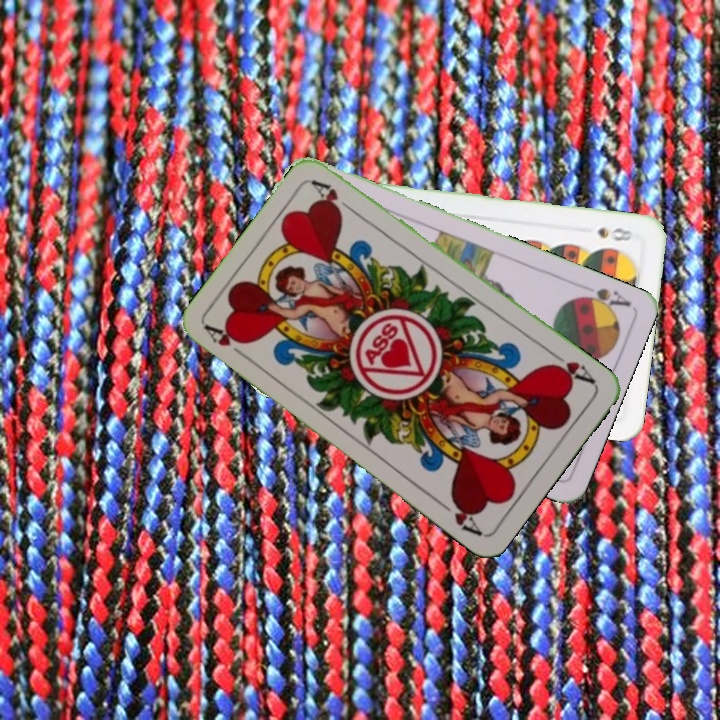HA: (544, 347, 598, 388), (201, 321, 253, 363)
S8: (593, 223, 635, 244)
SA: (572, 283, 633, 315)
